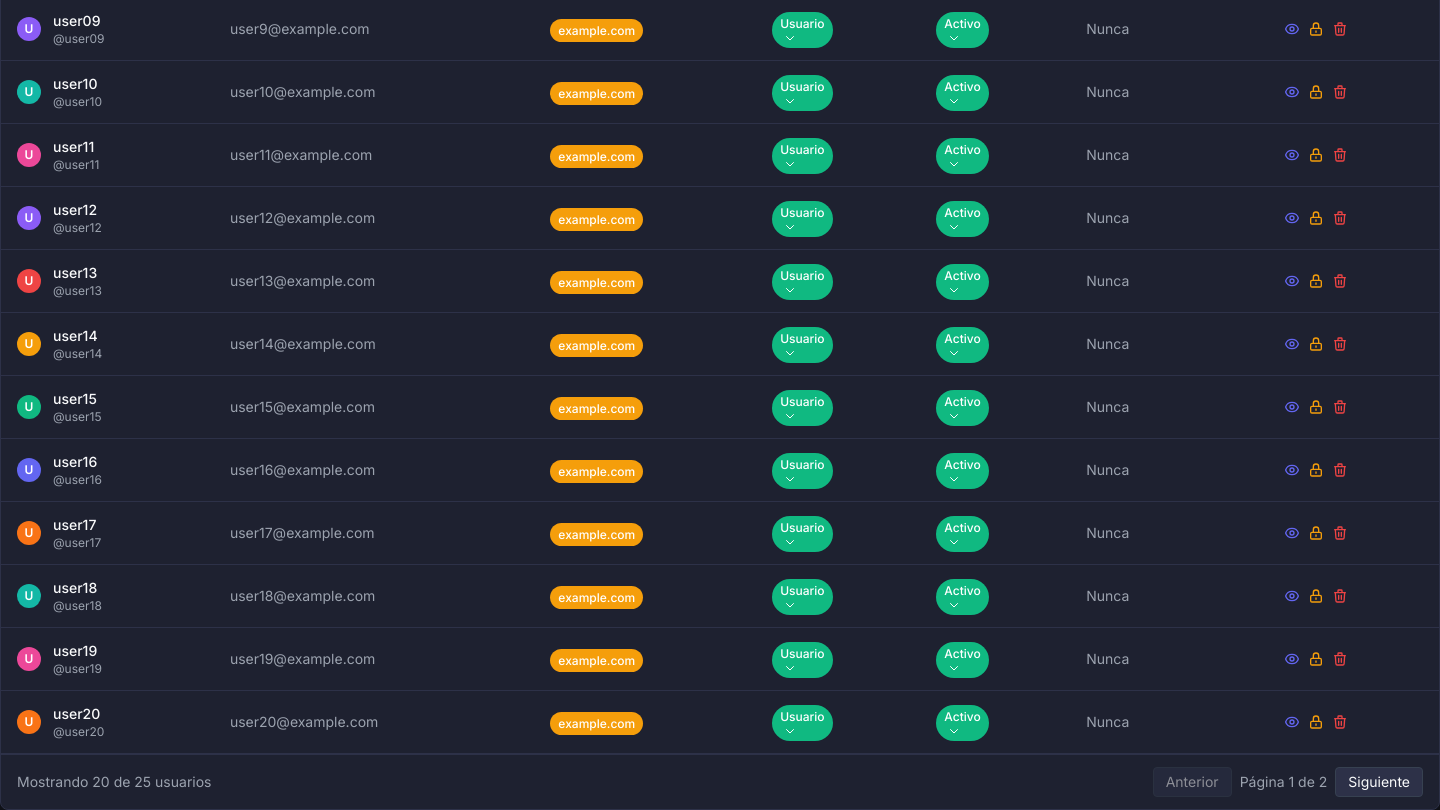
Test: UsersTable › debería paginar internamente con más de 20 usuarios
(page scrolled)
Expected: the text "Mostrando 20 de 25 usuarios" is shown, [17,772,212,792]
Expected: the text "Página 1 de 2" is shown, [1240,772,1327,792]
Click the button "Siguiente" at (1379, 782), box [1335,767,1423,797]
(page scrolled)
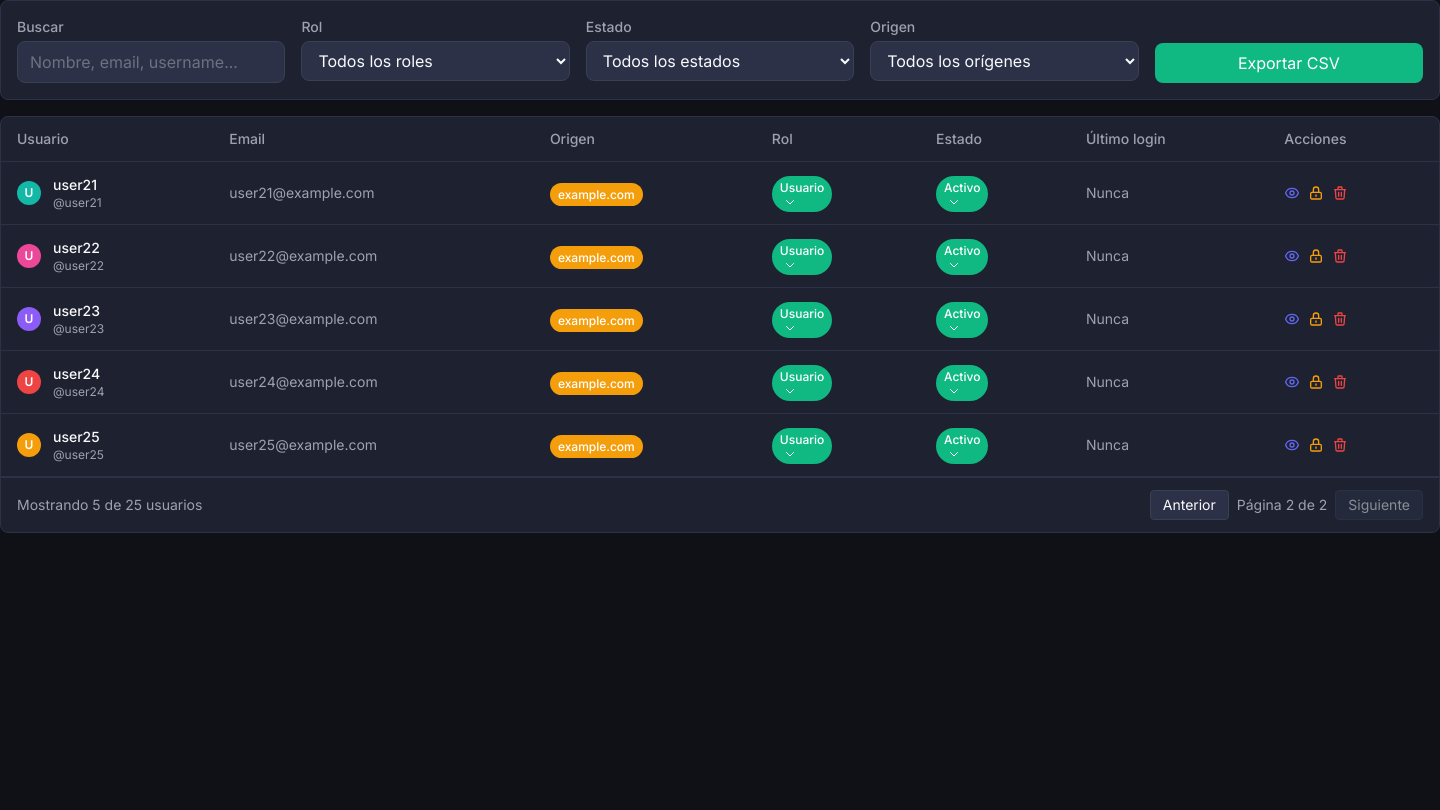
Expected: the text "Página 2 de 2" is shown, [1237,495,1327,515]
Expected: the text "Mostrando 5 de 25 usuarios" is shown, [17,495,202,515]
Expected: the button "Siguiente" is disabled, [1335,490,1423,520]
Click the button "Anterior" at (1189, 505), box [1150,490,1229,520]
(page scrolled)
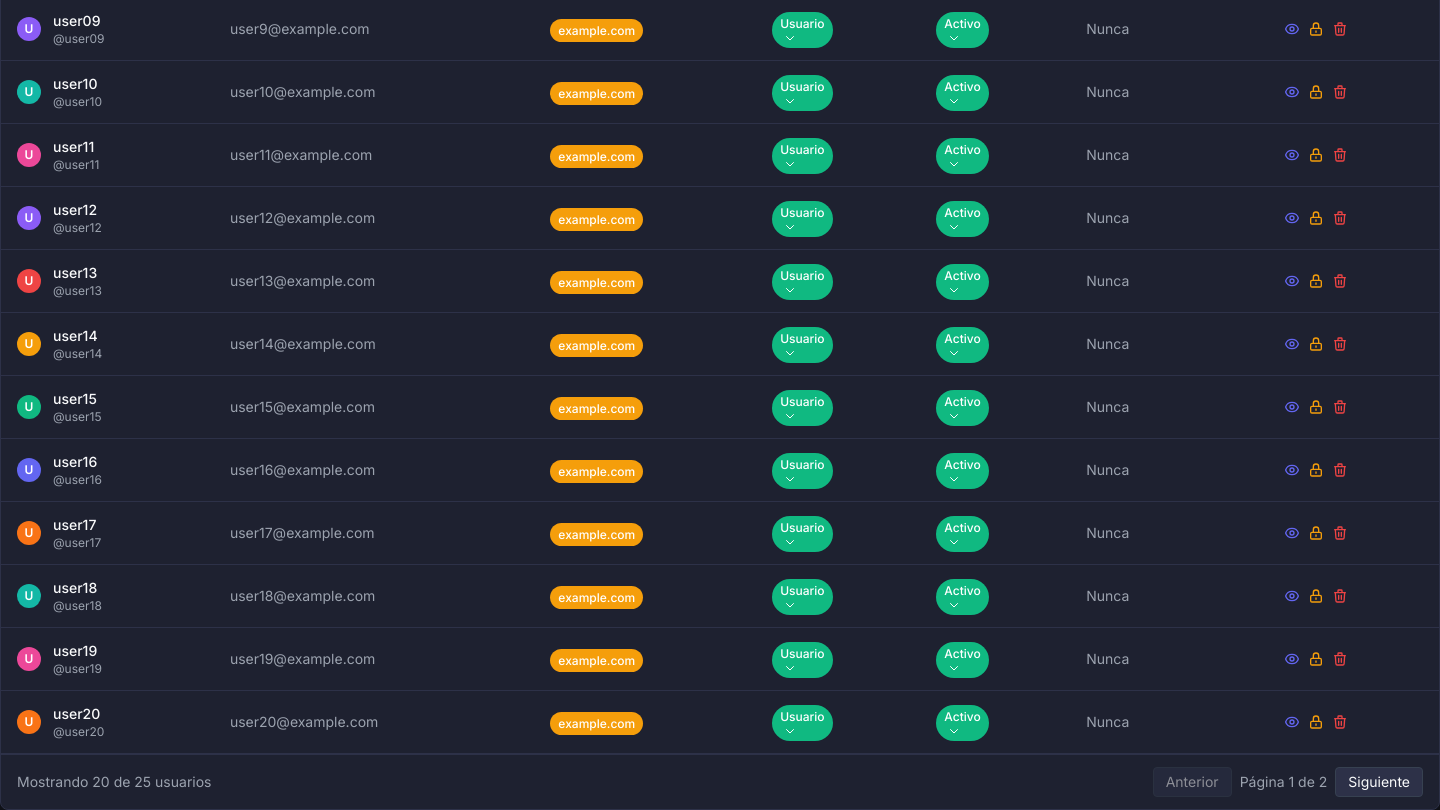
Expected: the text "Página 1 de 2" is shown, [1240,772,1327,792]
Expected: the text "Mostrando 20 de 25 usuarios" is shown, [17,772,212,792]
